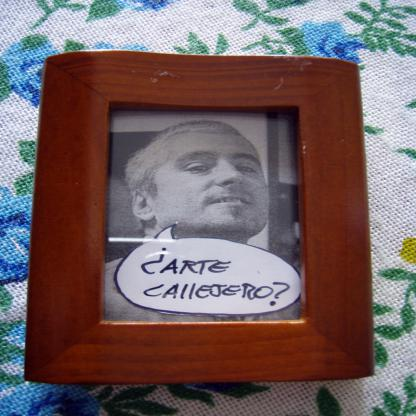Picture-frame: (25, 54, 386, 382)
